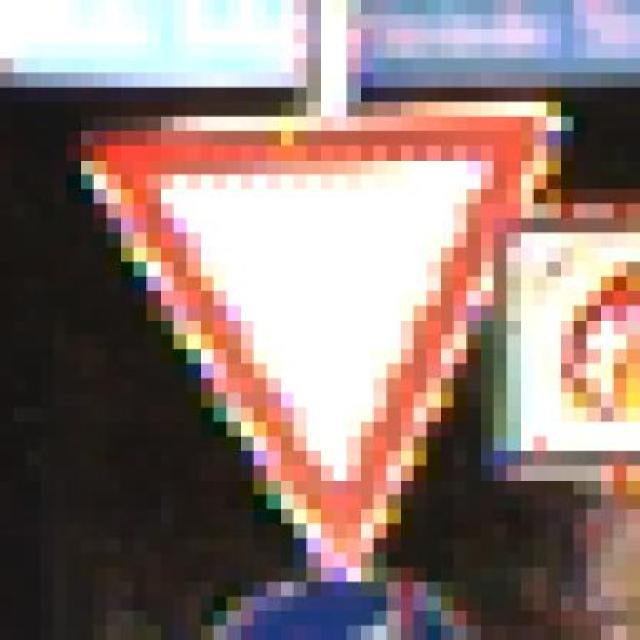Give Way: (40, 102, 600, 626)
